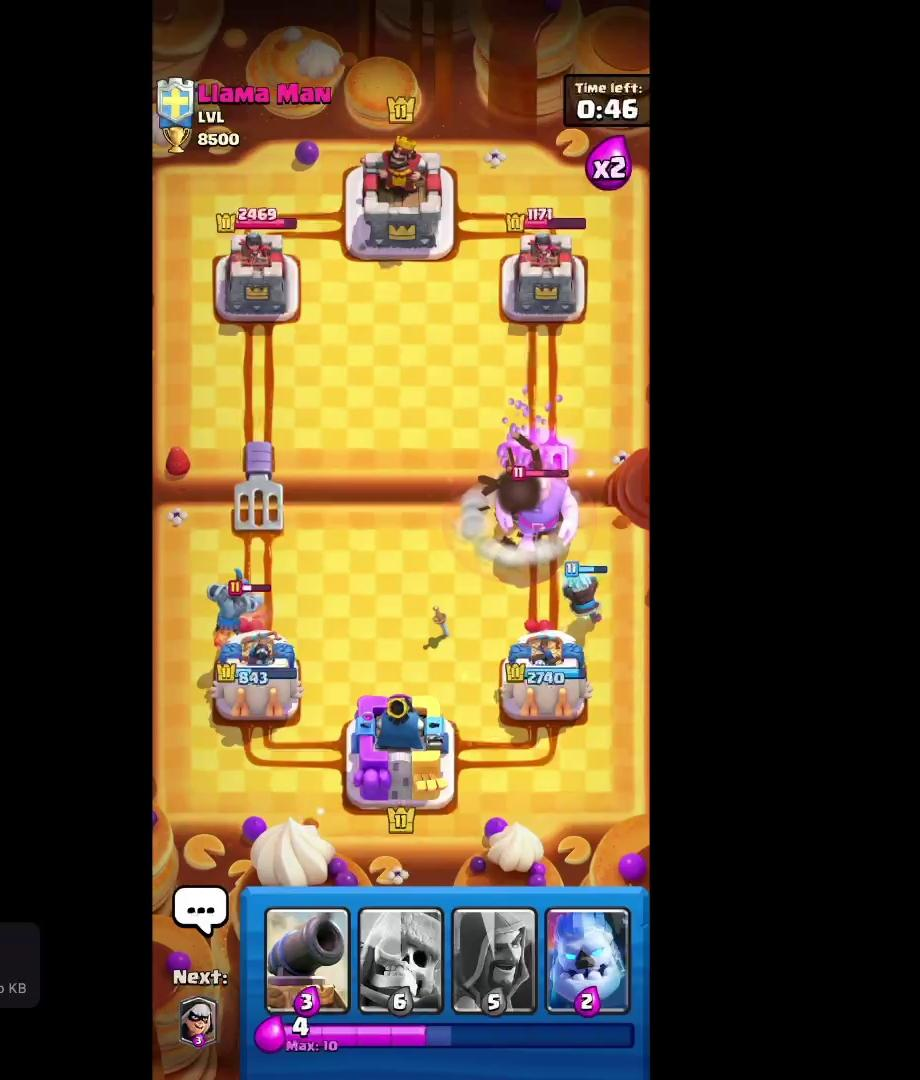Giant: (498, 454, 582, 552)
